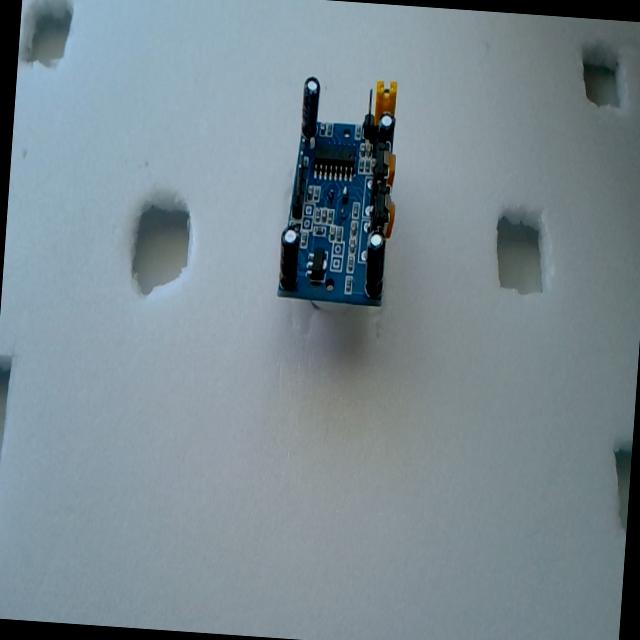Electrolytic capacitor: (363, 232, 386, 298), (278, 226, 300, 289), (300, 75, 321, 139), (376, 110, 395, 146)
IC: (312, 143, 355, 182)
pinheader: (369, 180, 392, 233)
